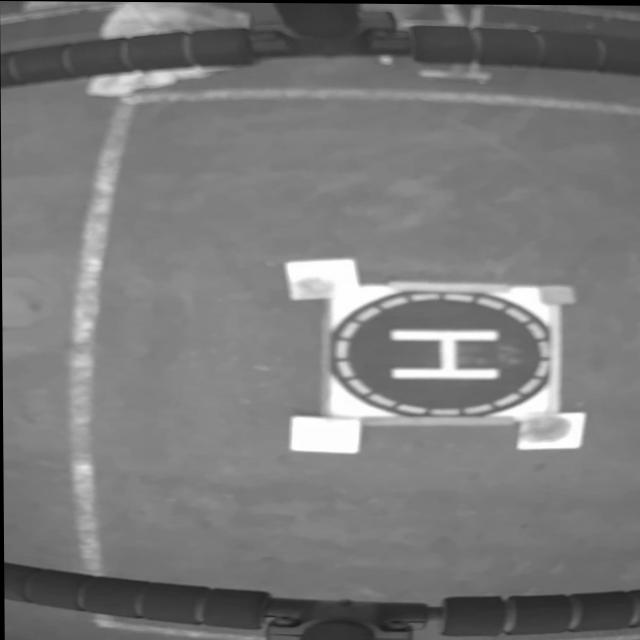Helipad: (390, 329, 496, 378)
